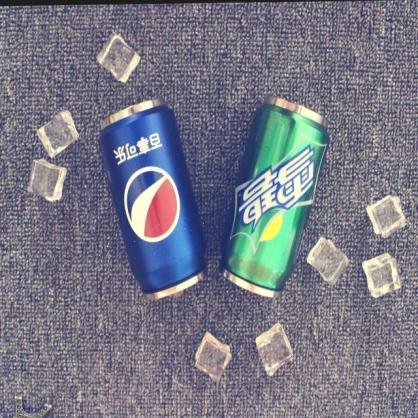can: (219, 92, 329, 300), (98, 96, 204, 300)
